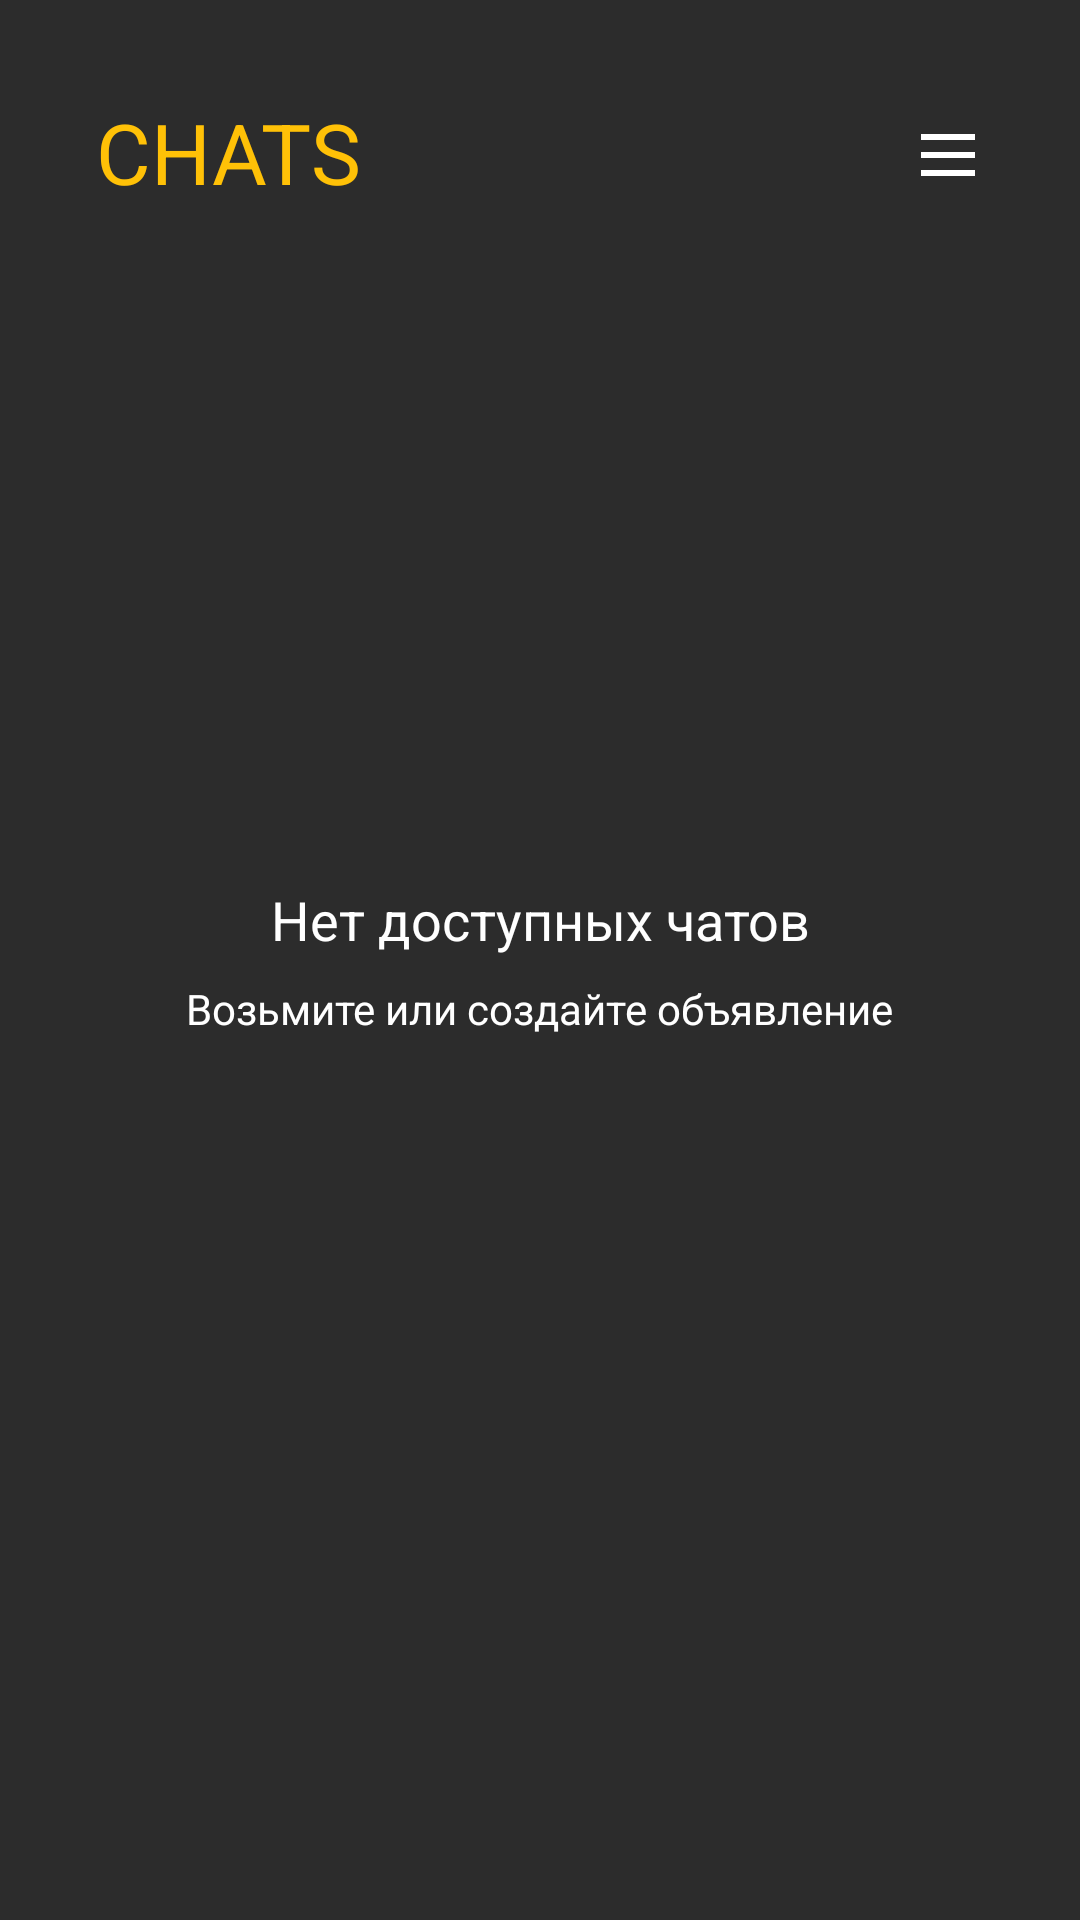

Icon bounding boxes for this 1080x1920 phone screenshot, format region(x1, y1, x2, y2):
Открыть навигационное меню: region(921, 134, 975, 176)
